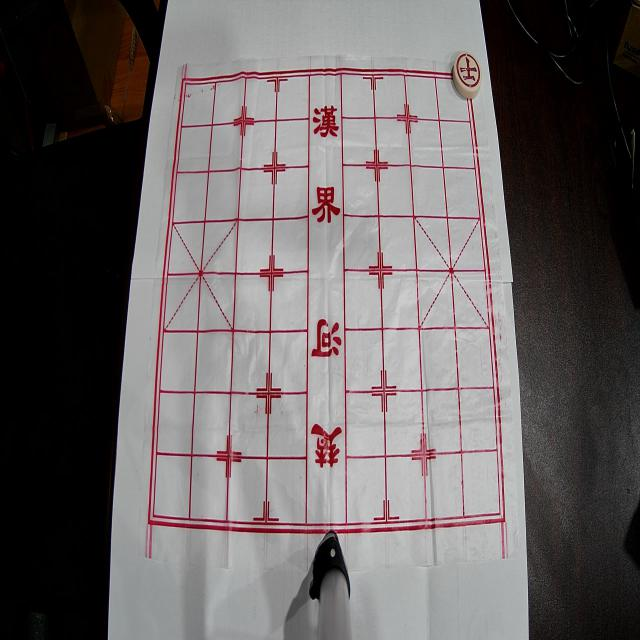red-guard: (453, 52, 482, 98)
